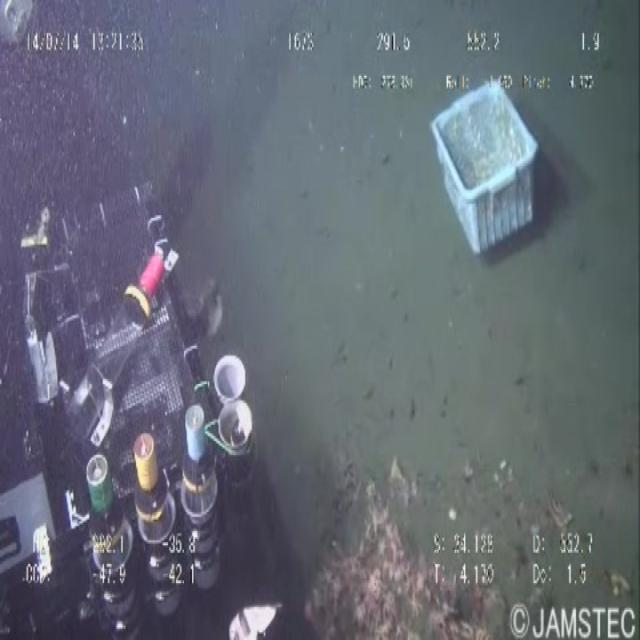Cutlery: (430, 75, 547, 267)
